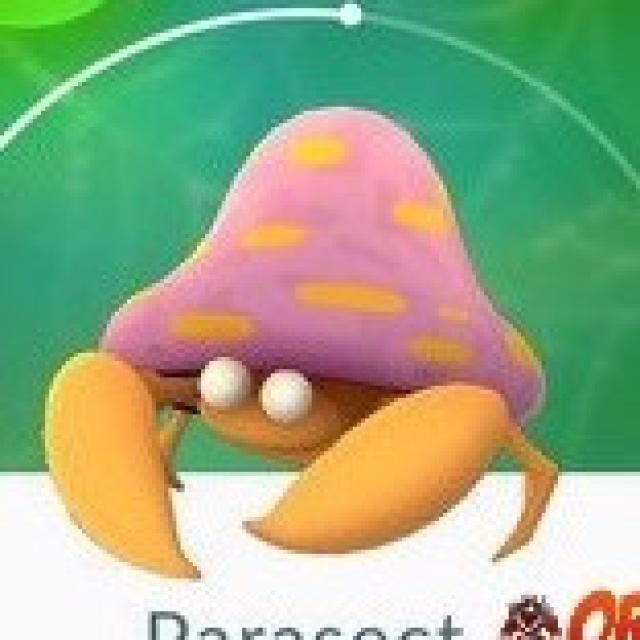Parasect: (60, 116, 581, 579)
